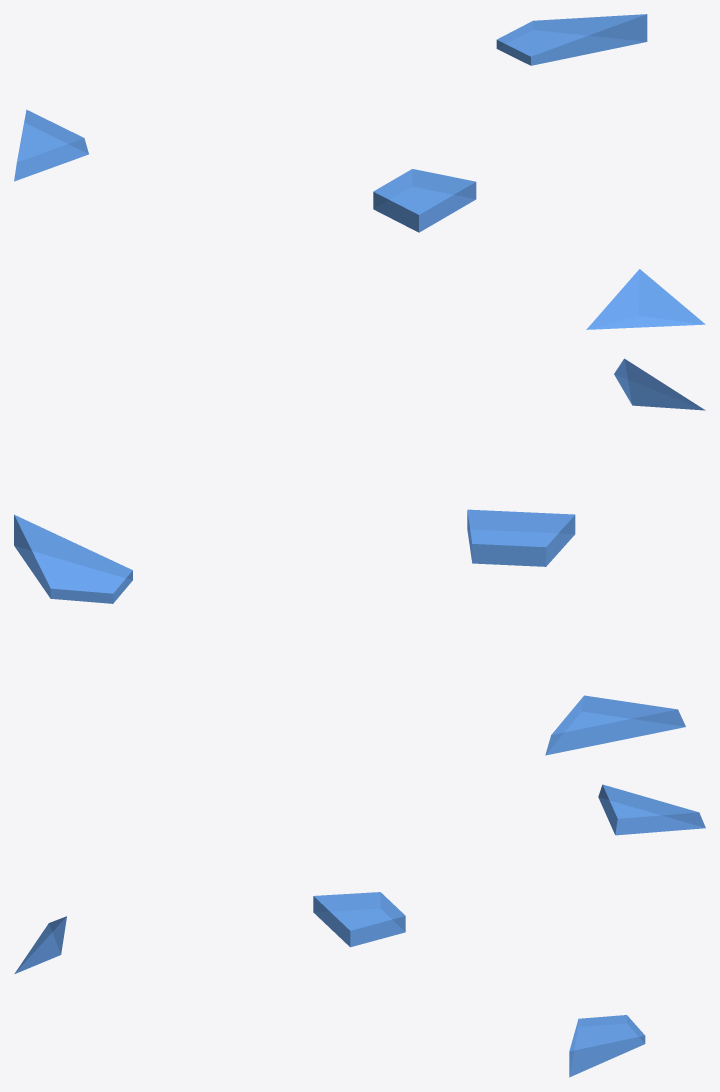
The model's file is Crystals_s_02.fbx.
3 renders of one model, top to bottom at view 1: azimuth 30°, elevation 25°; view 2: azimuth 150°, elevation 25°; view 3: azimuth 270°, elevation 25°, orthographic. The views are drawn at different scales.
Visible parts, largest first — view 1: Crystals_s_02; view 2: Crystals_s_02; view 3: Crystals_s_02.
Boxes of the visible parts, <box> form: Crystals_s_02: <box>14,14,705,329</box>; Crystals_s_02: <box>14,358,705,755</box>; Crystals_s_02: <box>14,784,705,1077</box>.
Size of the model in its own units: 86.96 by 5.95 by 90.56.
